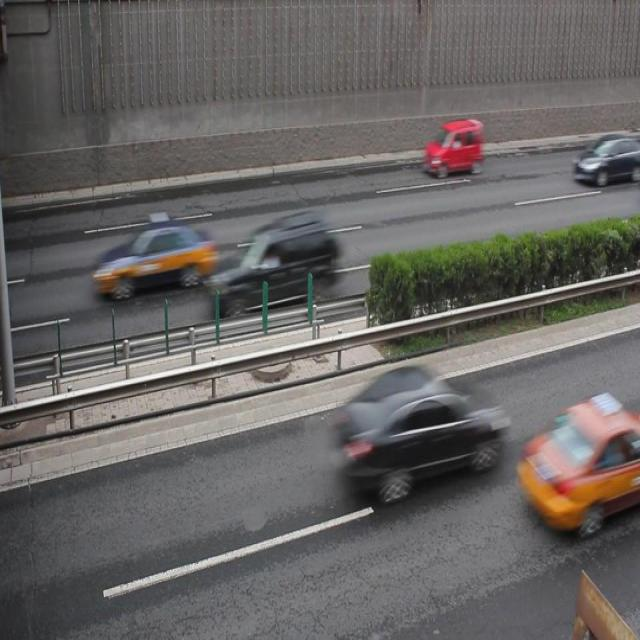car: (335, 362, 502, 502), (515, 398, 640, 536), (93, 214, 216, 300), (572, 134, 640, 187), (422, 120, 481, 175)
truck: (207, 213, 341, 318)
